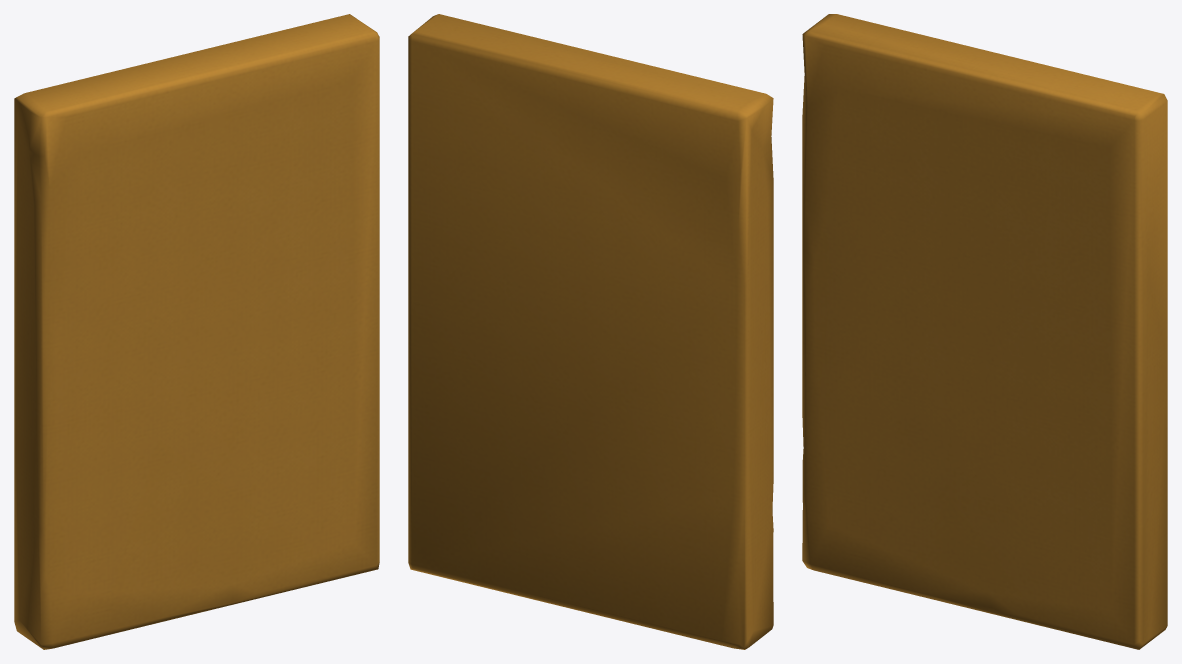
File: stucco-wall.glb
3 views of the same model, side by side, from view 1: azimuth 30°, elevation 25°; view 2: azimuth 150°, elevation 25°; view 3: azimuth 330°, elevation 25° (orthographic).
Parts seen in each view (by area): view 1: geometry_0.001; view 2: geometry_0.001; view 3: geometry_0.001.
Boxes of the visible parts, left/top/right/bottom form: geometry_0.001: left=14, top=14, right=379, bottom=649; geometry_0.001: left=408, top=14, right=773, bottom=649; geometry_0.001: left=802, top=14, right=1167, bottom=649.
Bounding box in the file's own units: 0.662 × 0.9998 × 0.1027.
Materials: 1 (1 with a texture image).
